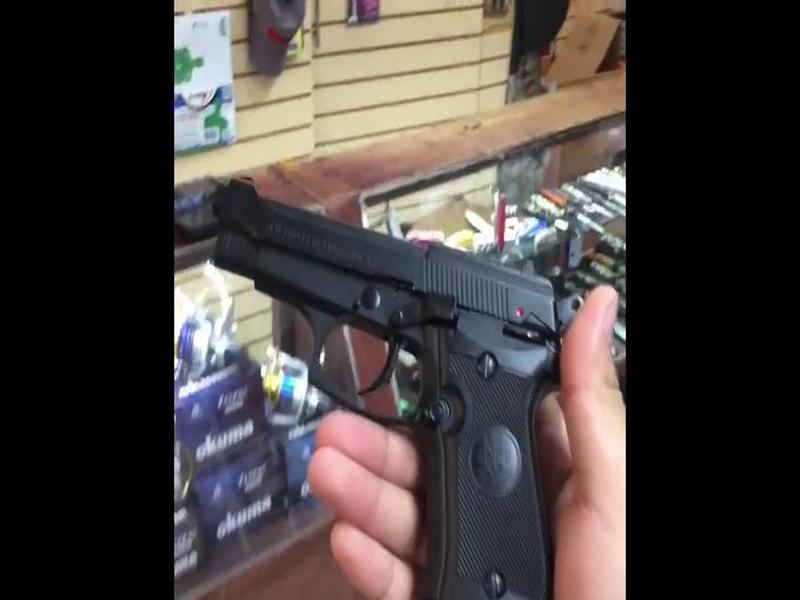Pistola: (204, 170, 567, 584)
